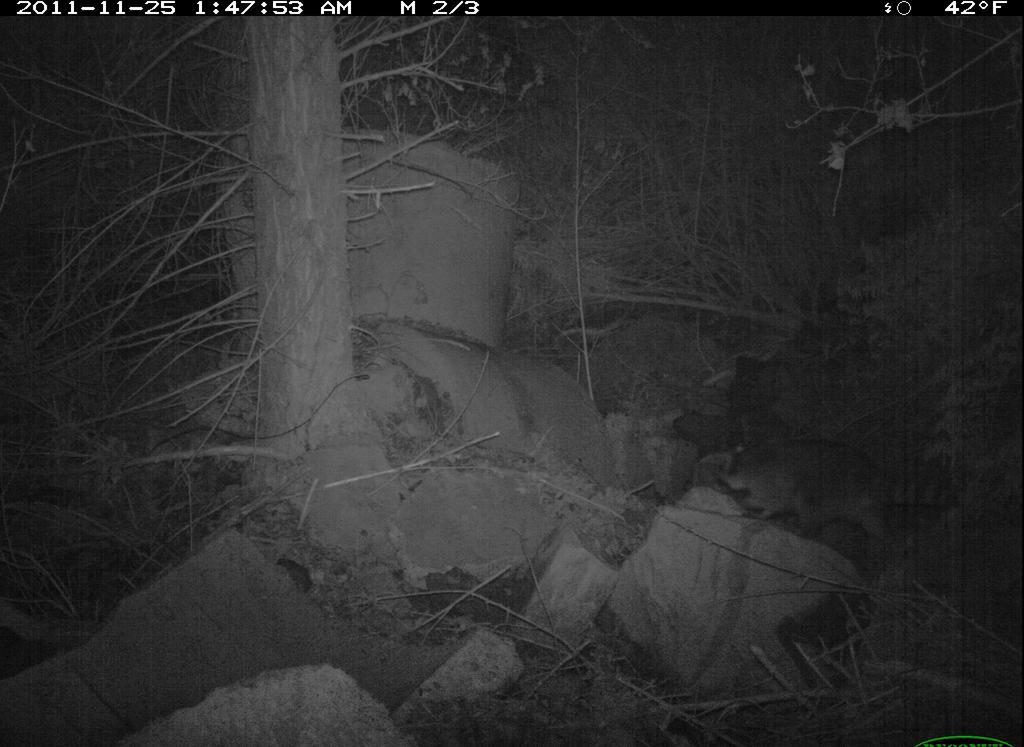raccoon: (719, 426, 969, 559)
